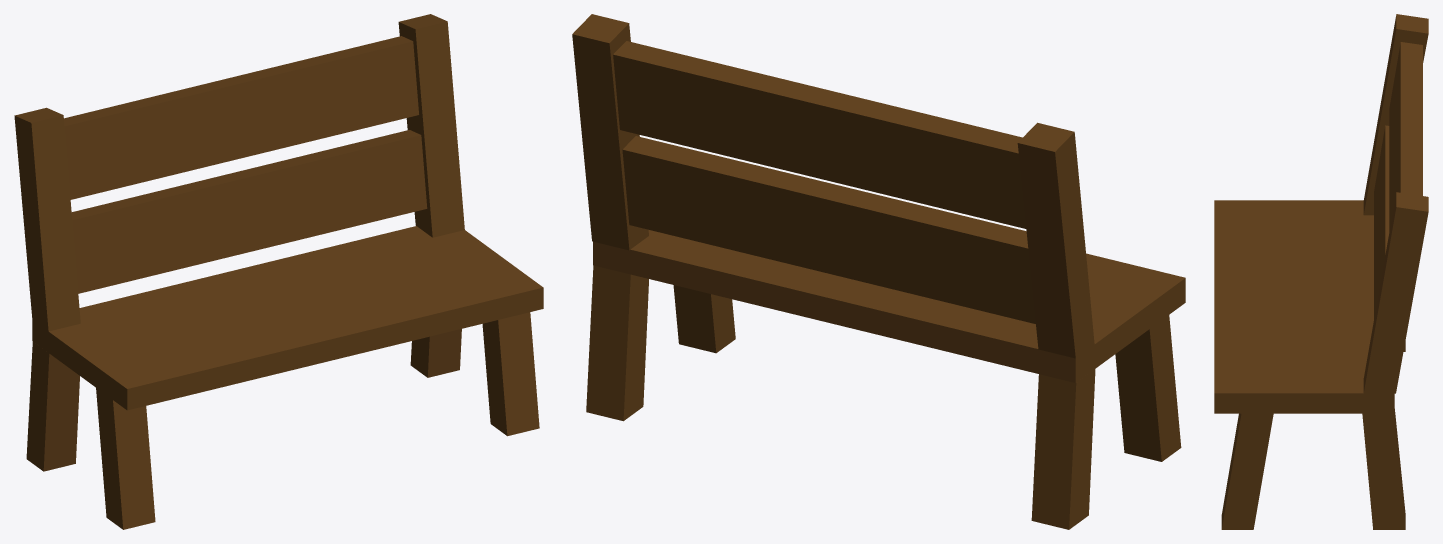
The model's file is bench.fbx.
3 renders of one model, left to right at view 1: azimuth 30°, elevation 25°; view 2: azimuth 150°, elevation 25°; view 3: azimuth 270°, elevation 25°, orthographic. The views are drawn at different scales.
Parts seen in each view (by area): view 1: Bench; view 2: Bench; view 3: Bench.
Boxes of the visible parts, bbox=[...] form: Bench: bbox=[14, 14, 543, 529]; Bench: bbox=[572, 14, 1185, 529]; Bench: bbox=[1214, 14, 1428, 529].
Size of the model in its own units: 200 by 156 by 93.83.
